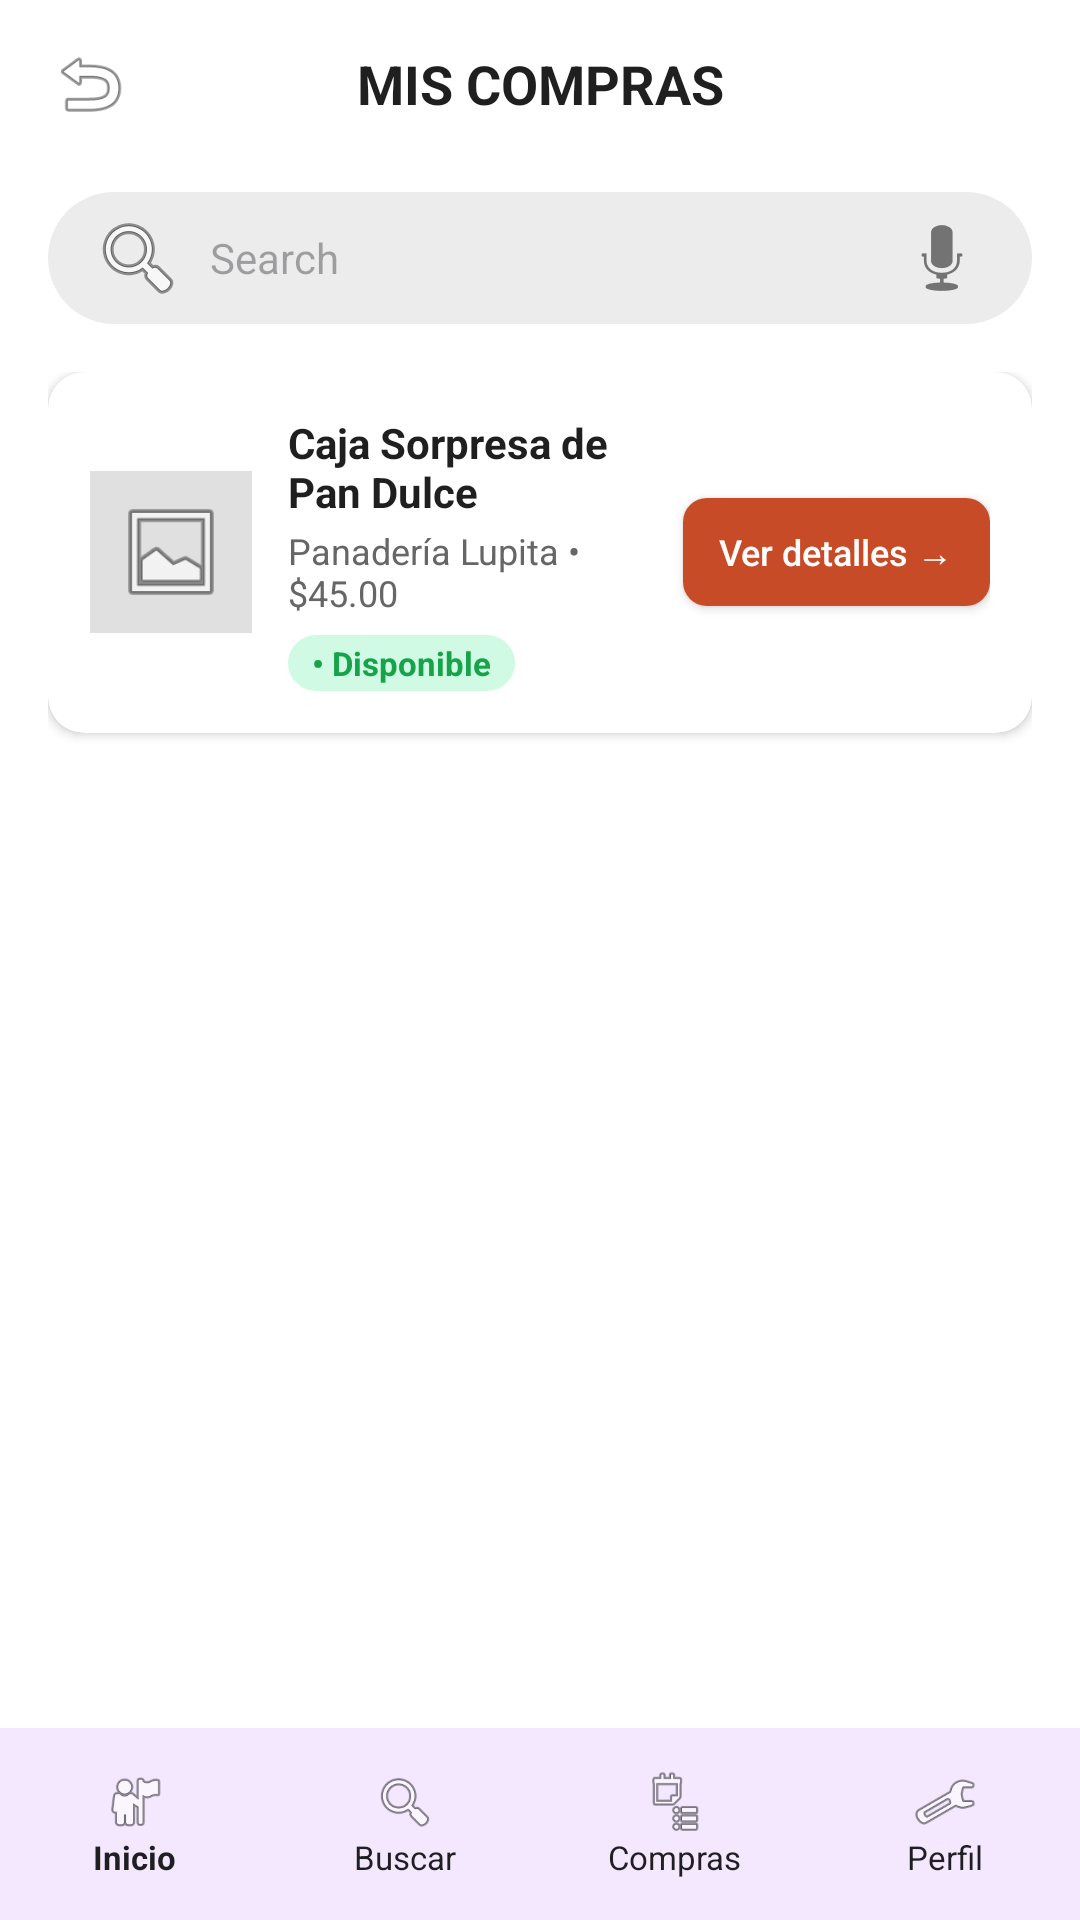

Named icons in this screenshot (1080 × 1920) and their centers, point (x, y):
agenda: point (675, 1801)
gallery: point (171, 552)
manage: point (945, 1802)
myplaces: point (136, 1802)
revert: point (91, 84)
